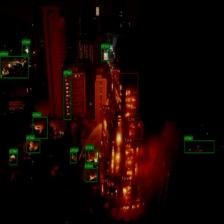fire: (102, 110, 124, 174), (113, 72, 138, 118), (121, 180, 140, 214), (124, 142, 140, 180), (127, 121, 142, 139), (106, 186, 118, 198), (101, 182, 104, 196)
